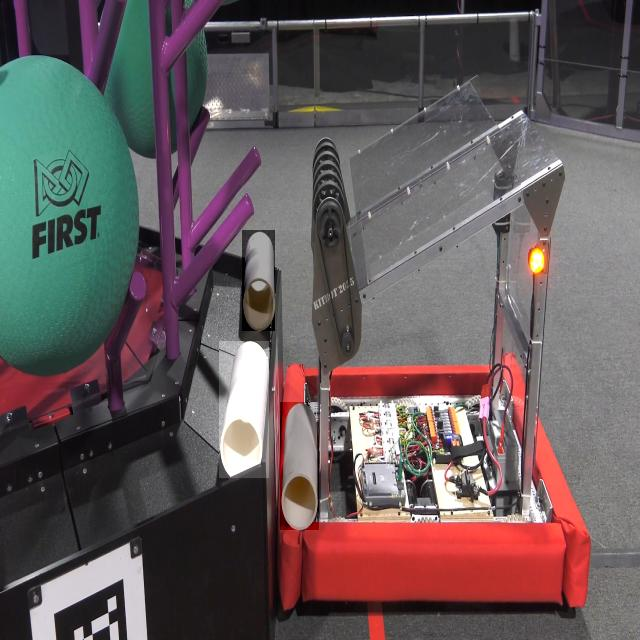Coral: (219, 342, 269, 479), (280, 402, 319, 530), (242, 230, 275, 331)
